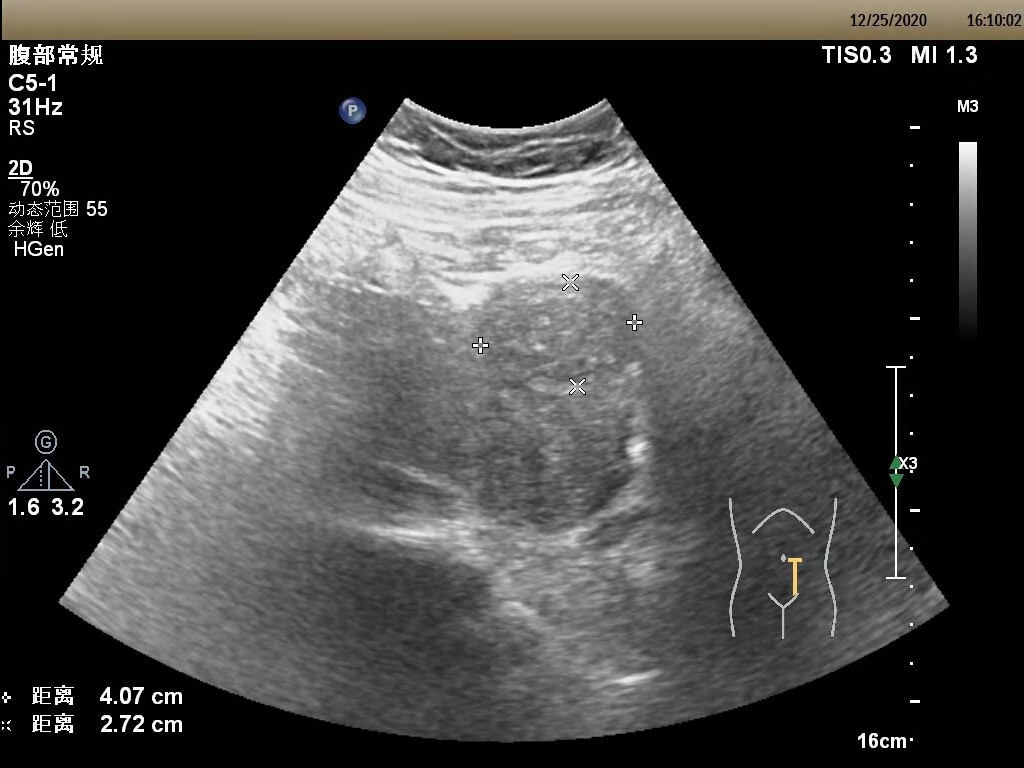肌瘤: (481, 283, 638, 387)
